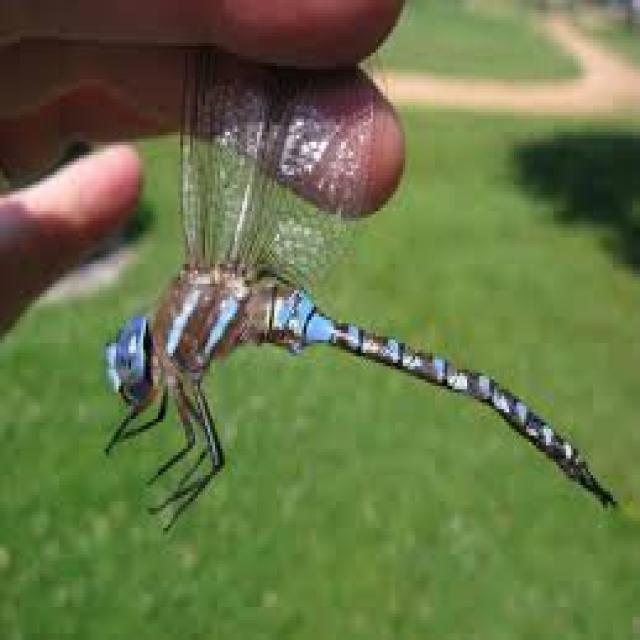dragonfly: (106, 49, 613, 528)
